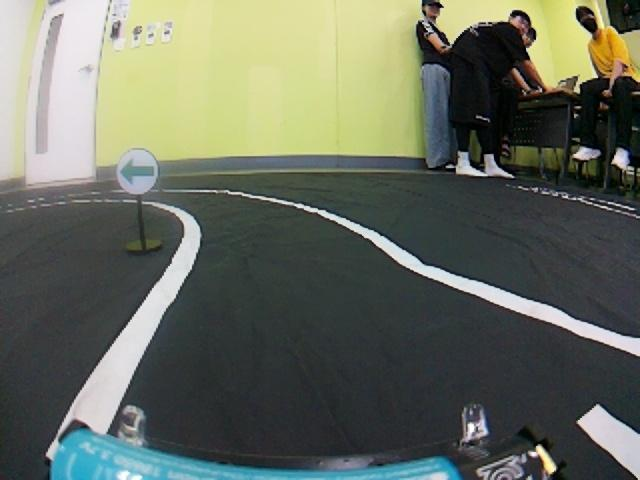sign_left: (115, 148, 158, 196)
straight: (3, 232, 621, 480)
